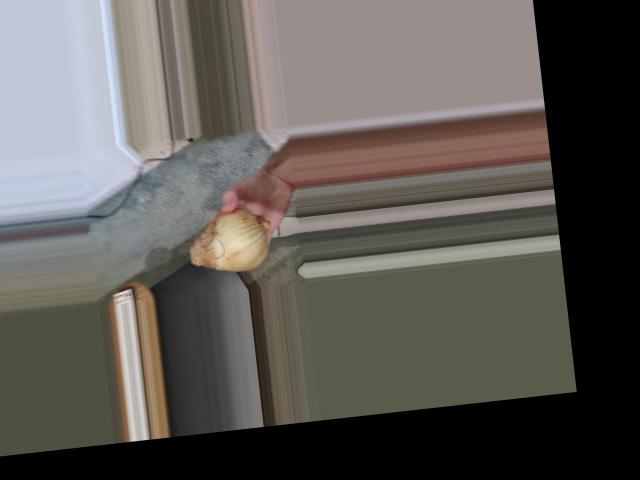onion: (183, 203, 269, 273)
